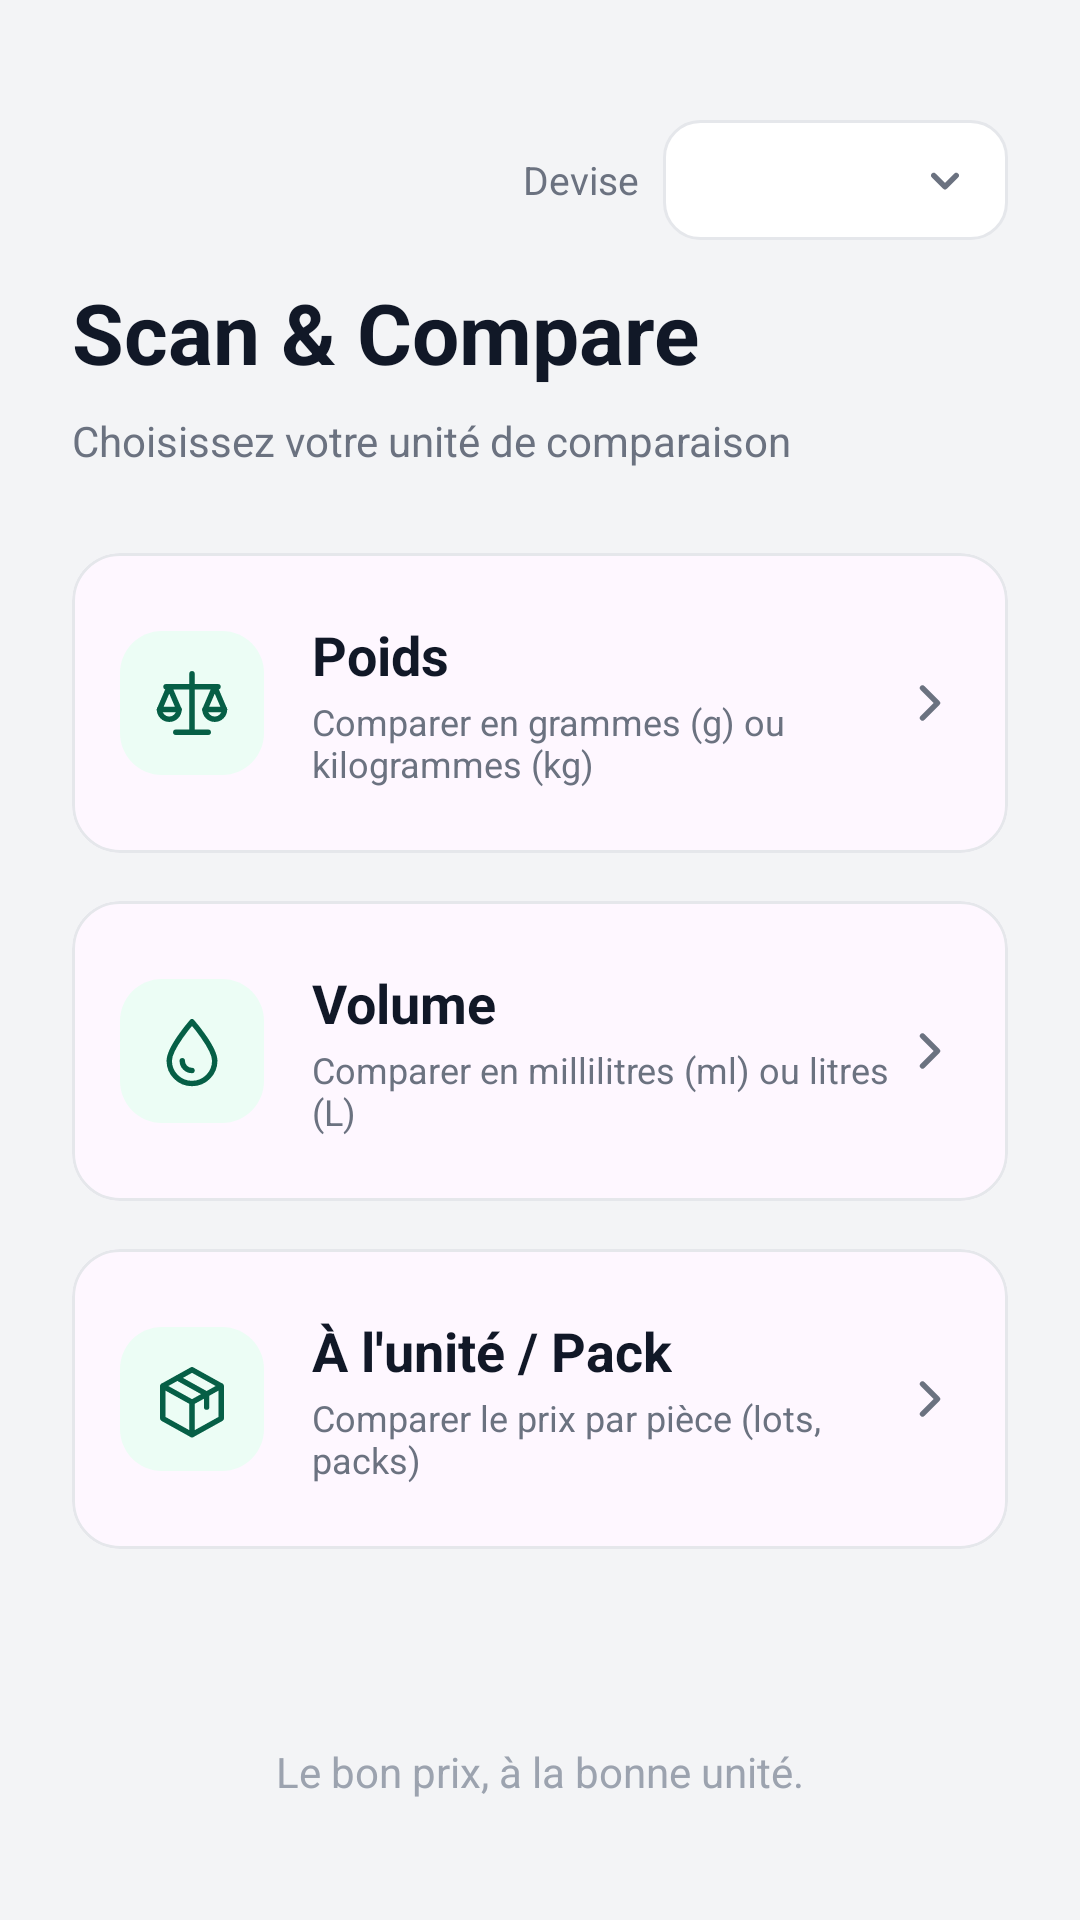

Where icons sit on this 1080*1920 app screen, as region(x1, y1, x2, y2):
category unit: region(120, 1327, 264, 1471)
category weight: region(120, 631, 264, 775)
chevron right: region(919, 685, 941, 721), region(919, 1033, 941, 1069), region(919, 1381, 941, 1417)
